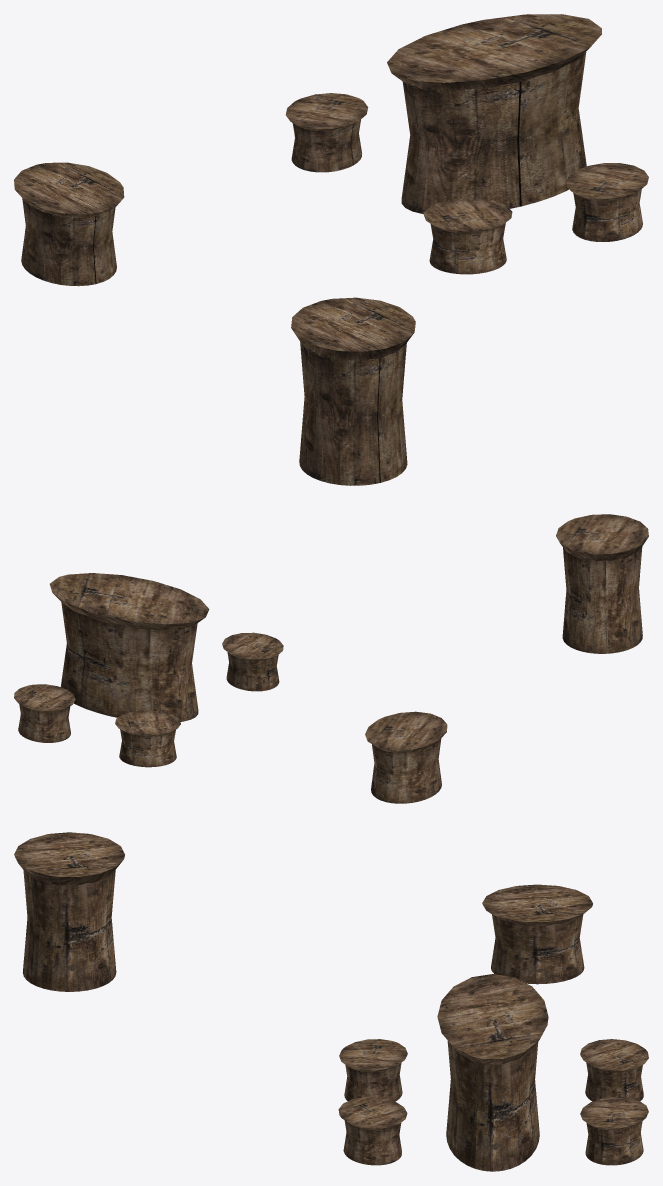
File: barrels.glb
3 renders of one model, top to bottom at view 1: azimuth 30°, elevation 25°; view 2: azimuth 150°, elevation 25°; view 3: azimuth 270°, elevation 25°, orthographic. The views are drawn at different scales.
Visible parts, largest first — view 1: Barrell.002, Base Barrell, Lid.002, Barrell.001, Base Lid, Chair.002, Chair, Chair.003, Lid.001; view 2: Barrell.002, Base Barrell, Lid.002, Barrell.001, Base Lid, Chair, Chair.002, Chair.001, Lid.001; view 3: Barrell.002, Base Barrell, Lid.002, Barrell.001, Base Lid, Chair.003, Chair.001, Lid.001, Chair, Chair.002.
Boxes of the visible parts, x1,y1,x2,y2 form: Barrell.002: (401, 51, 586, 213); Base Barrell: (299, 341, 407, 485); Lid.002: (387, 14, 601, 90); Barrell.001: (21, 198, 116, 286); Base Lid: (291, 297, 415, 360); Chair.002: (423, 198, 512, 274); Chair: (285, 93, 368, 172); Chair.003: (566, 163, 648, 241); Lid.001: (14, 162, 124, 217); Barrell.002: (60, 602, 198, 721); Base Barrell: (562, 547, 642, 653); Lid.002: (49, 573, 209, 630); Barrell.001: (371, 738, 441, 803); Base Lid: (556, 514, 648, 560); Chair: (115, 710, 180, 767); Chair.002: (222, 632, 283, 691); Chair.001: (14, 684, 75, 742); Lid.001: (365, 711, 447, 752); Barrell.002: (446, 1040, 539, 1171); Base Barrell: (23, 870, 116, 991); Lid.002: (437, 974, 548, 1064); Barrell.001: (491, 914, 584, 984); Base Lid: (14, 832, 124, 885); Chair.003: (338, 1097, 407, 1165); Chair.001: (580, 1097, 648, 1165); Lid.001: (482, 884, 592, 925); Chair: (580, 1039, 648, 1101); Chair.002: (339, 1039, 407, 1101).
Bounding box in the file's own units: 11.46 × 2.77 × 13.53.
7 materials, 7 textured.
